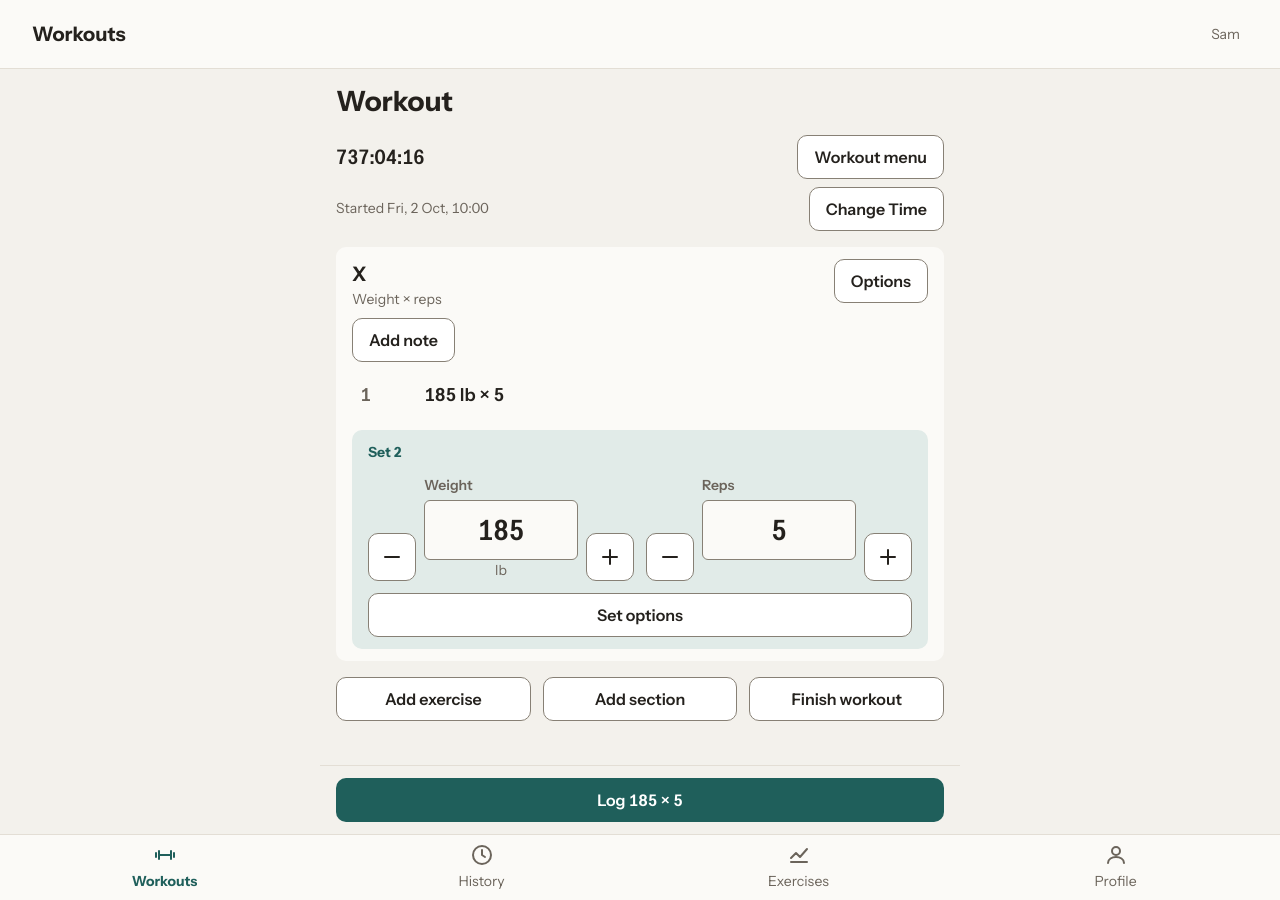
Scenario: 17.1 AC18 — the weight stepper › steps 5 lb by the draft's unit and writes the formatted value
Expected: the heading "Workout" is shown, [336, 84, 453, 118]
Click the button named "Increase weight by 5 lb". click: [610, 557]
box: [586, 533, 634, 581]
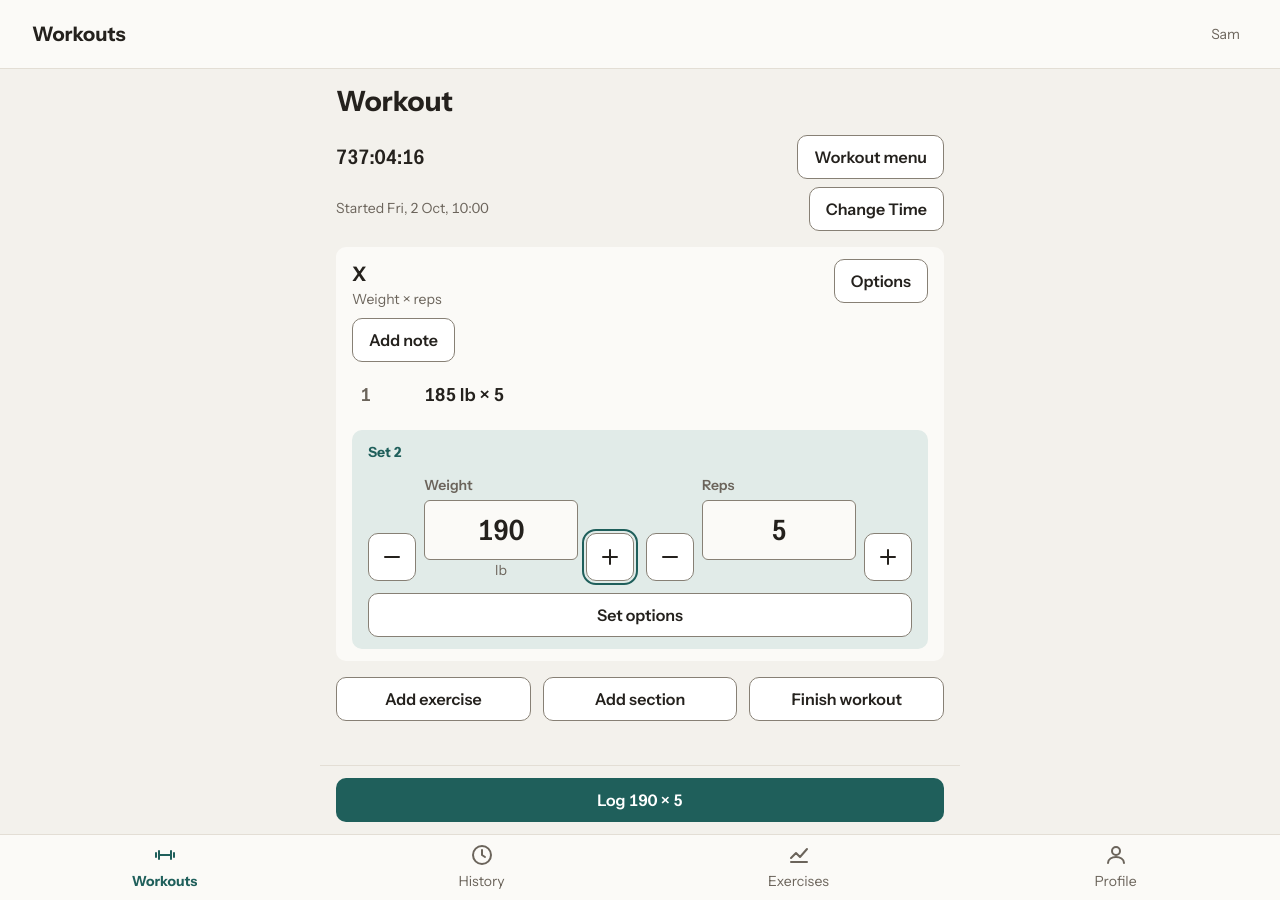
Result: the field labelled "Weight" holds "190" at [424, 500, 578, 560]
Click the button named "Decrease weight by 5 lb". click: [392, 557]
box: [368, 533, 416, 581]
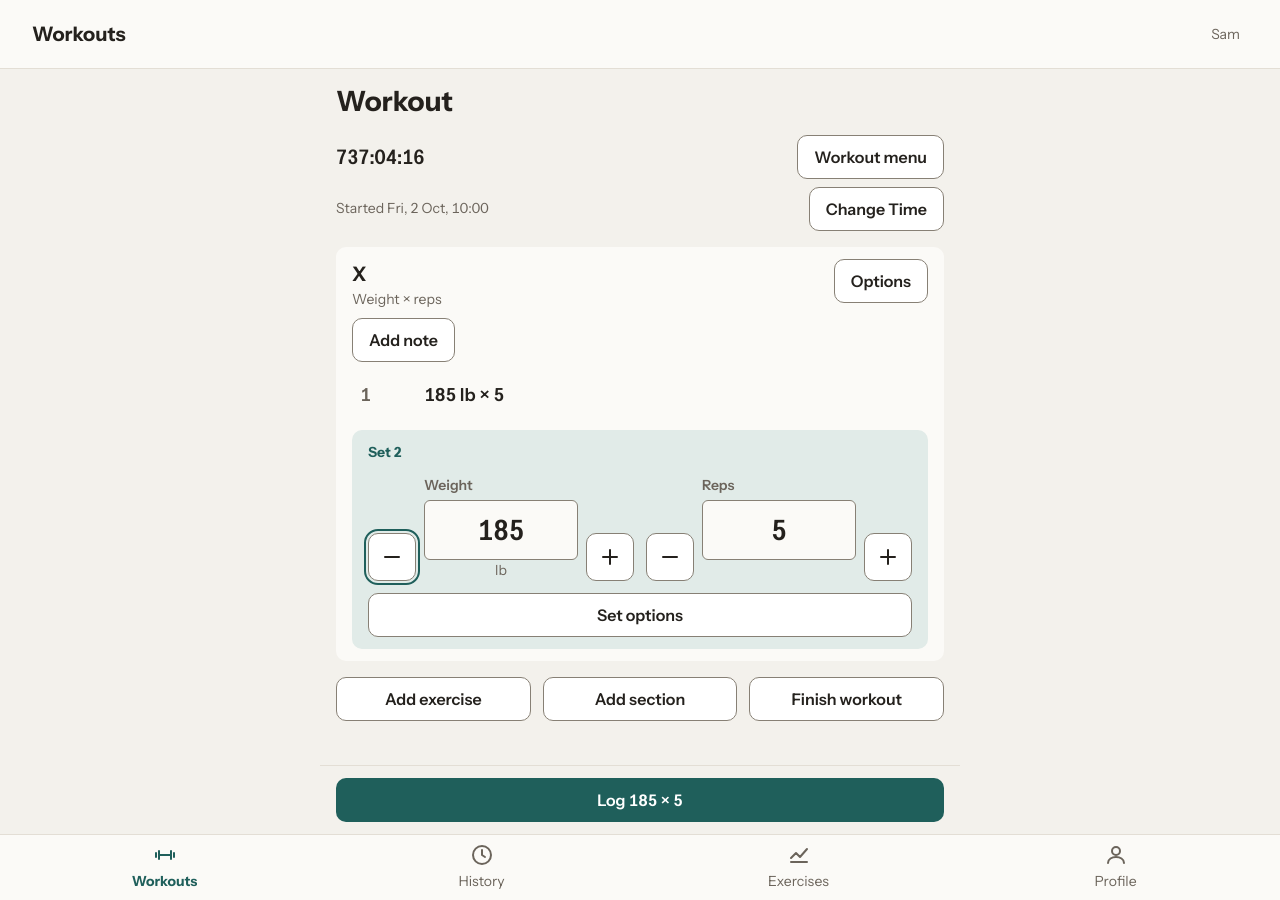
Click the button named "Decrease weight by 5 lb". click: [392, 557]
box: [368, 533, 416, 581]
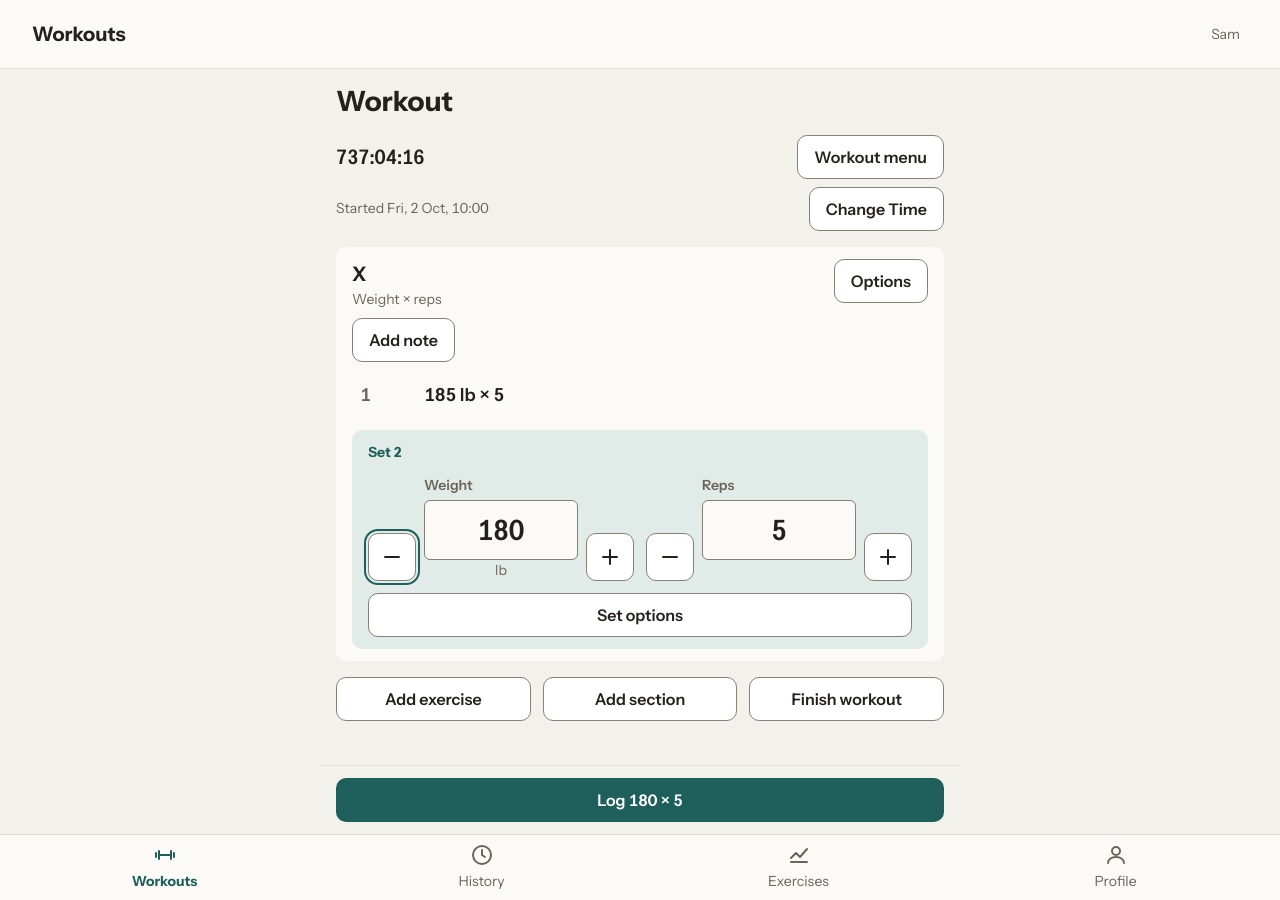
Result: the field labelled "Weight" holds "180" at [424, 500, 578, 560]
